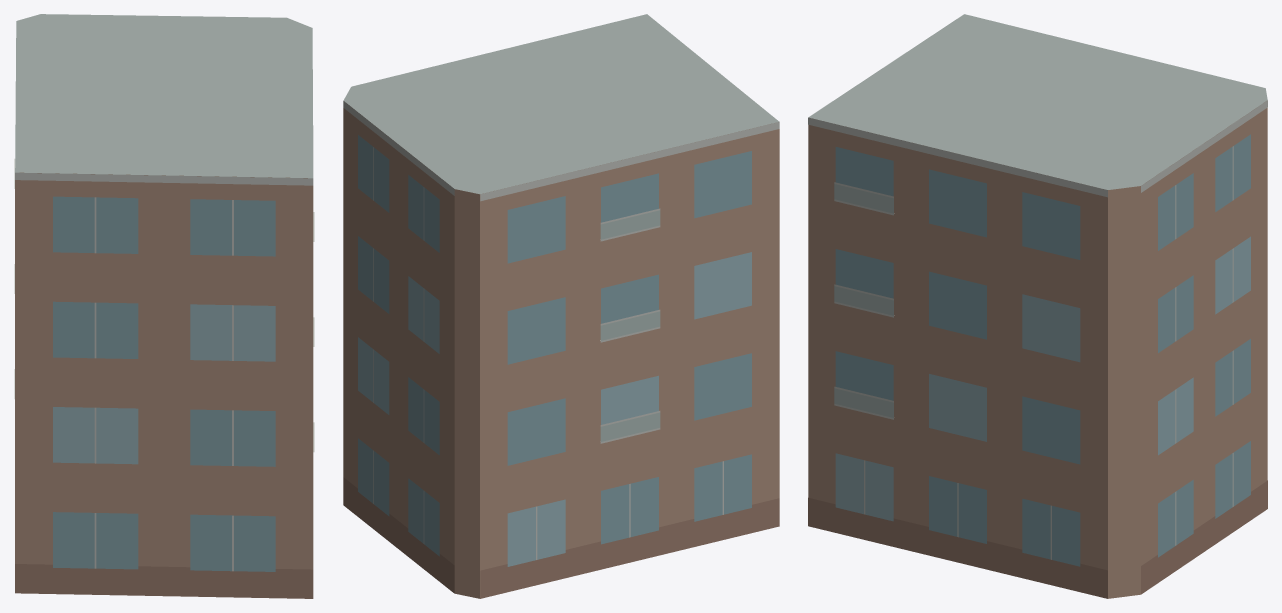
File: survey-upis-33001255.glb
3 renders of one model, left to right at view 1: azimuth 30°, elevation 25°; view 2: azimuth 150°, elevation 25°; view 3: azimuth 270°, elevation 25°, orthographic. The views are drawn at different scales.
Parts seen in each view (by area): view 1: survey-upis-33001255.tmp; view 2: survey-upis-33001255.tmp; view 3: survey-upis-33001255.tmp.
Part boxes in pixels (left/top/right/bottom): survey-upis-33001255.tmp: left=14, top=14, right=314, bottom=598; survey-upis-33001255.tmp: left=343, top=14, right=779, bottom=598; survey-upis-33001255.tmp: left=808, top=14, right=1267, bottom=598.
Size of the model in its own units: 12.76 by 13.8 by 14.07.
